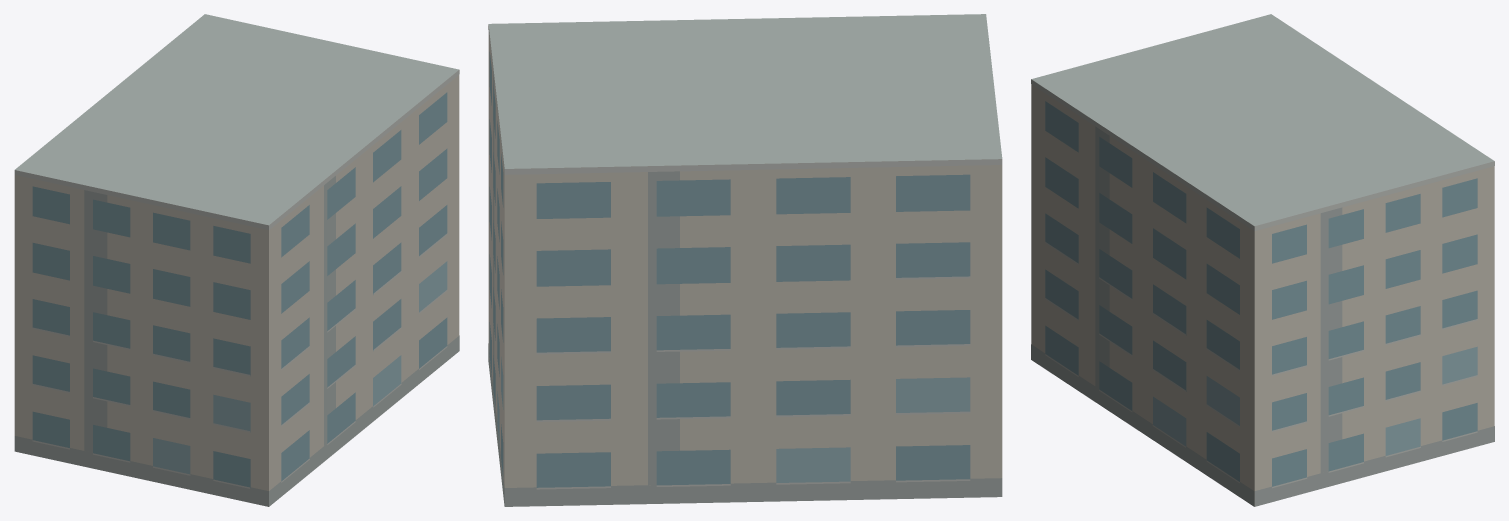
The model's file is residential-e8c5fef1-c995-4304-b0ab-4db32b7f4a06.glb.
3 views of the same model, side by side, from view 1: azimuth 30°, elevation 25°; view 2: azimuth 150°, elevation 25°; view 3: azimuth 270°, elevation 25° (orthographic). The views are drawn at different scales.
Parts seen in each view (by area): view 1: residential-e8c5fef1-c995-4304-b0ab-4db32b7f4a06.tmp; view 2: residential-e8c5fef1-c995-4304-b0ab-4db32b7f4a06.tmp; view 3: residential-e8c5fef1-c995-4304-b0ab-4db32b7f4a06.tmp.
Boxes of the visible parts, x1,y1,x2,y2 form: residential-e8c5fef1-c995-4304-b0ab-4db32b7f4a06.tmp: (14,14,459,506); residential-e8c5fef1-c995-4304-b0ab-4db32b7f4a06.tmp: (488,14,1002,506); residential-e8c5fef1-c995-4304-b0ab-4db32b7f4a06.tmp: (1031,14,1494,506).
Size of the model in its own units: 22.72 by 14 by 20.97.
